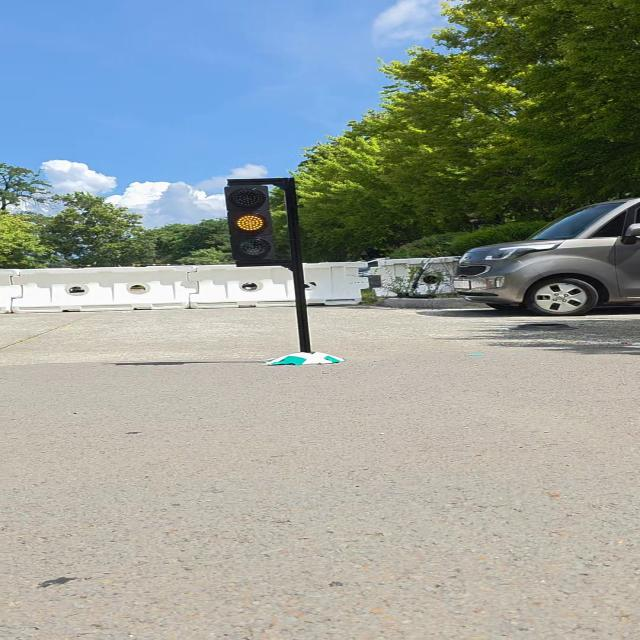yellow: (223, 184, 279, 263)
